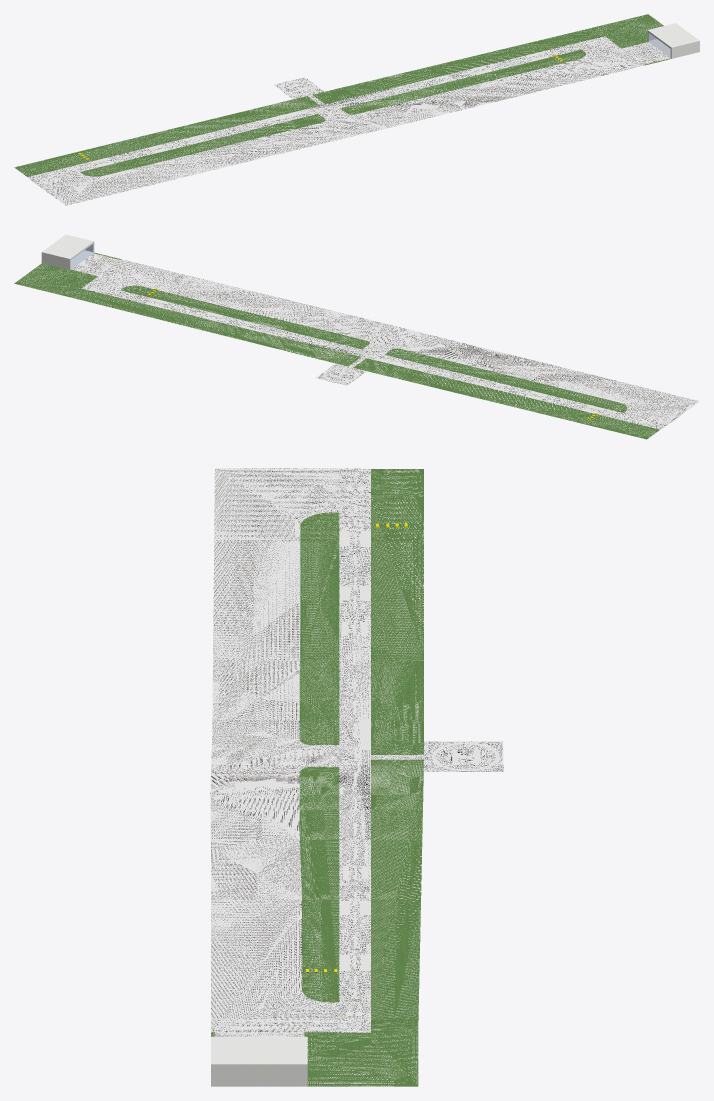
File: Airport+Runway.dae
The picture shows the model from 3 angles, top to bottom: view 1: azimuth 30°, elevation 25°; view 2: azimuth 150°, elevation 25°; view 3: azimuth 270°, elevation 25°; orthographic projection. The views are drawn at different scales.
Visible parts, largest first — view 1: Airport; view 2: Airport; view 3: Airport.
Part boxes in pixels (x1,y1,x2,y2): Airport: (14, 14, 699, 205); Airport: (14, 234, 699, 439); Airport: (210, 468, 503, 1086).
Bounding box in the file's own units: 30129 × 509 × 6034.
Materials: 15 (2 with a texture image).
